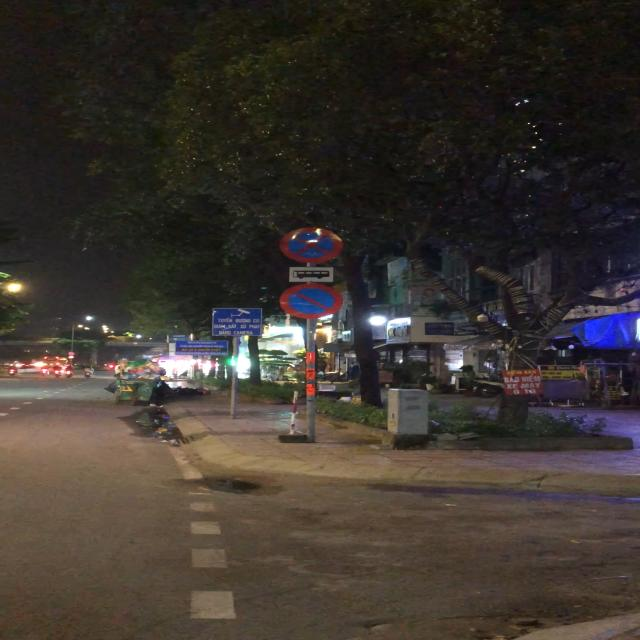Bien bao cam do xe: (278, 282, 346, 320)
Bien bao cam dung xe va do xe: (280, 225, 348, 265)
